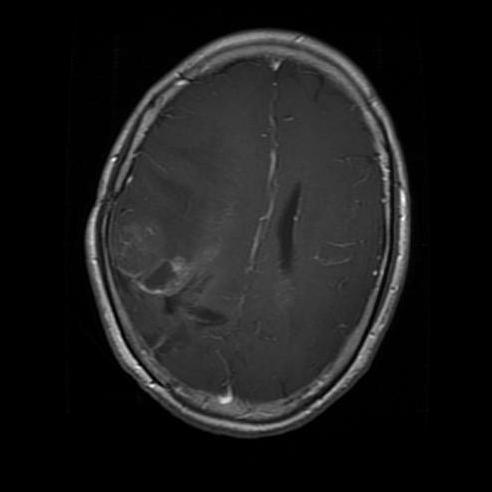Tumour-Glioma: (109, 262, 190, 310)
